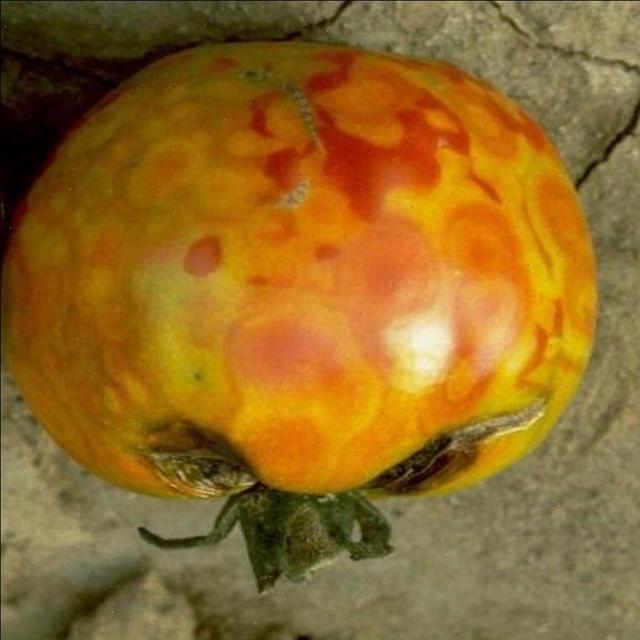Spotted wilt Virus Fruit: (0, 26, 402, 337)
